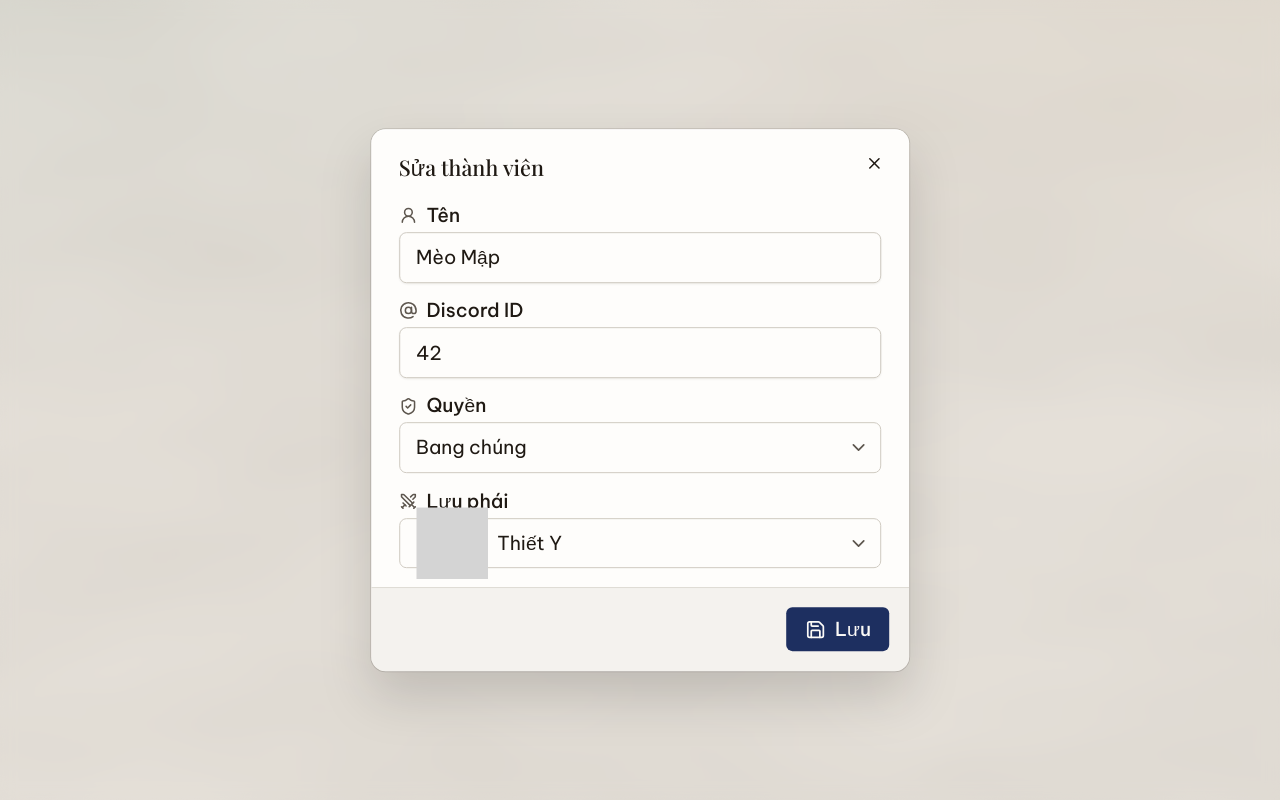
Scenario: MemberFormDialog - Grant › chọn vai Quản lý thì hiện hai nhóm checklist, mặc định không tick gì
Press the mouse on the dropdown named "Quyền": coordinates (471, 448) left=399, top=423, right=881, bottom=473
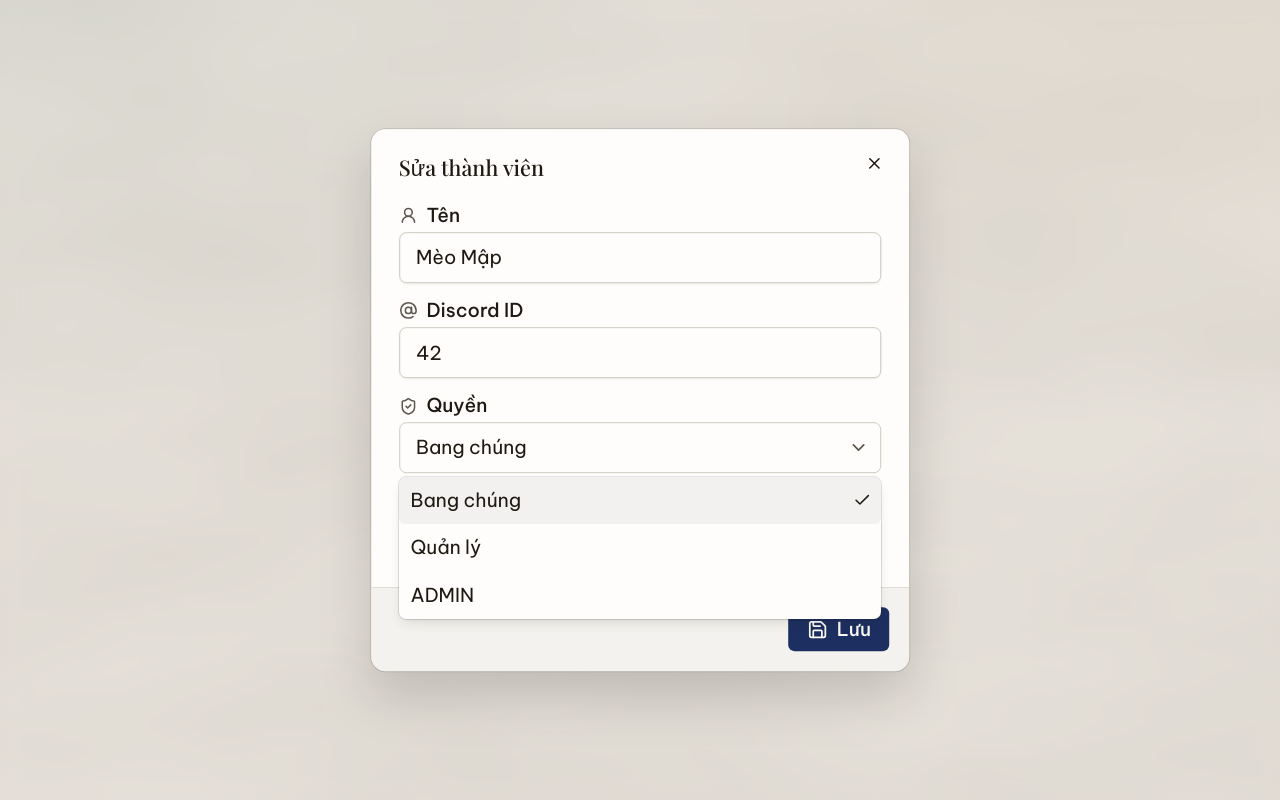
Click the option "Quản lý": coordinates (446, 547) left=410, top=535, right=481, bottom=559
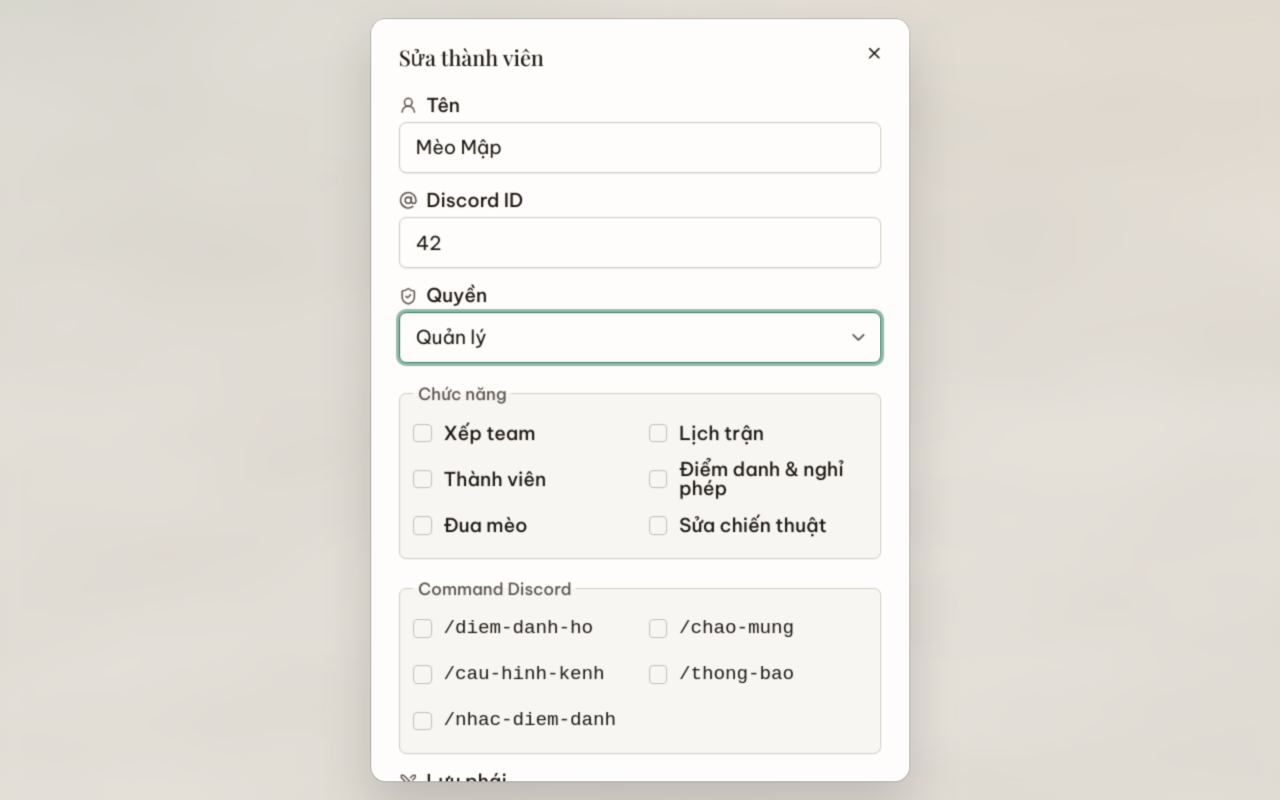
Result: the text "Chức năng" is shown at left=414, top=382, right=512, bottom=406
Result: the text "Command Discord" is shown at left=414, top=577, right=576, bottom=601
